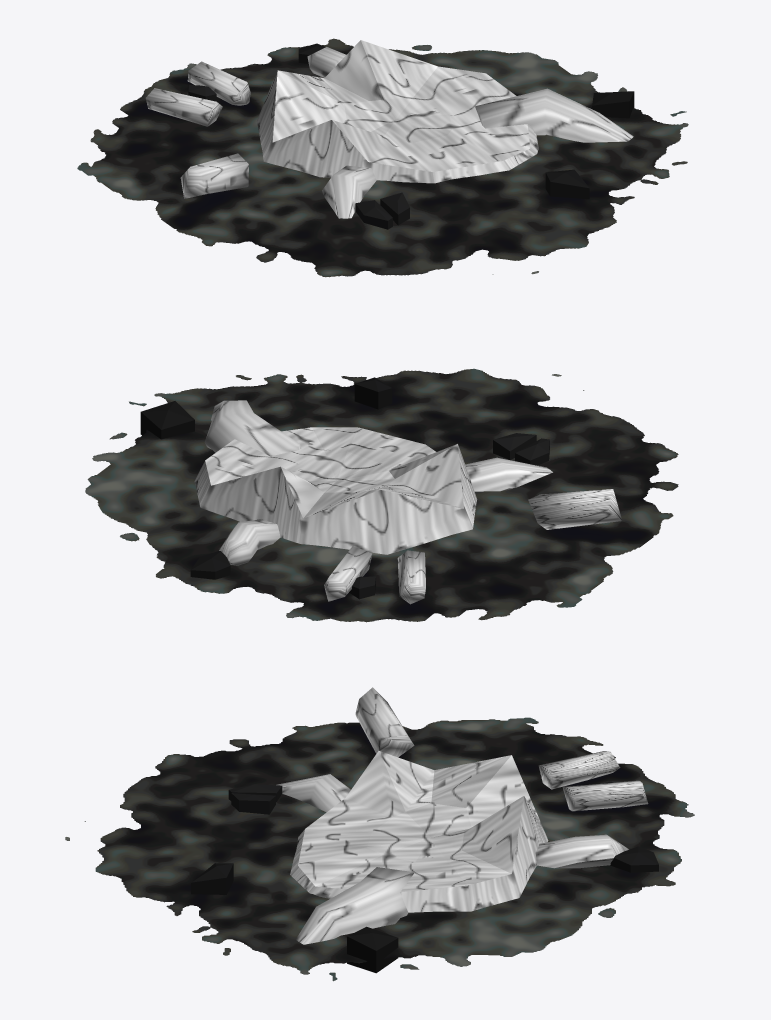
File: CreTreesmudge03.glb
3 views of the same model, one above another, from view 1: azimuth 30°, elevation 25°; view 2: azimuth 150°, elevation 25°; view 3: azimuth 270°, elevation 25° (orthographic). The views are drawn at different scales.
Visible parts, largest first — view 1: CreTreesmudge03_bed; view 2: CreTreesmudge03_bed; view 3: CreTreesmudge03_bed.
Part boxes in pixels (x1,y1,x2,y2): CreTreesmudge03_bed: (77,38,688,277); CreTreesmudge03_bed: (85,368,678,622); CreTreesmudge03_bed: (65,687,694,981).
Bounding box in the file's own units: 2.95 × 0.348 × 2.9.
3 materials, 2 textured.
